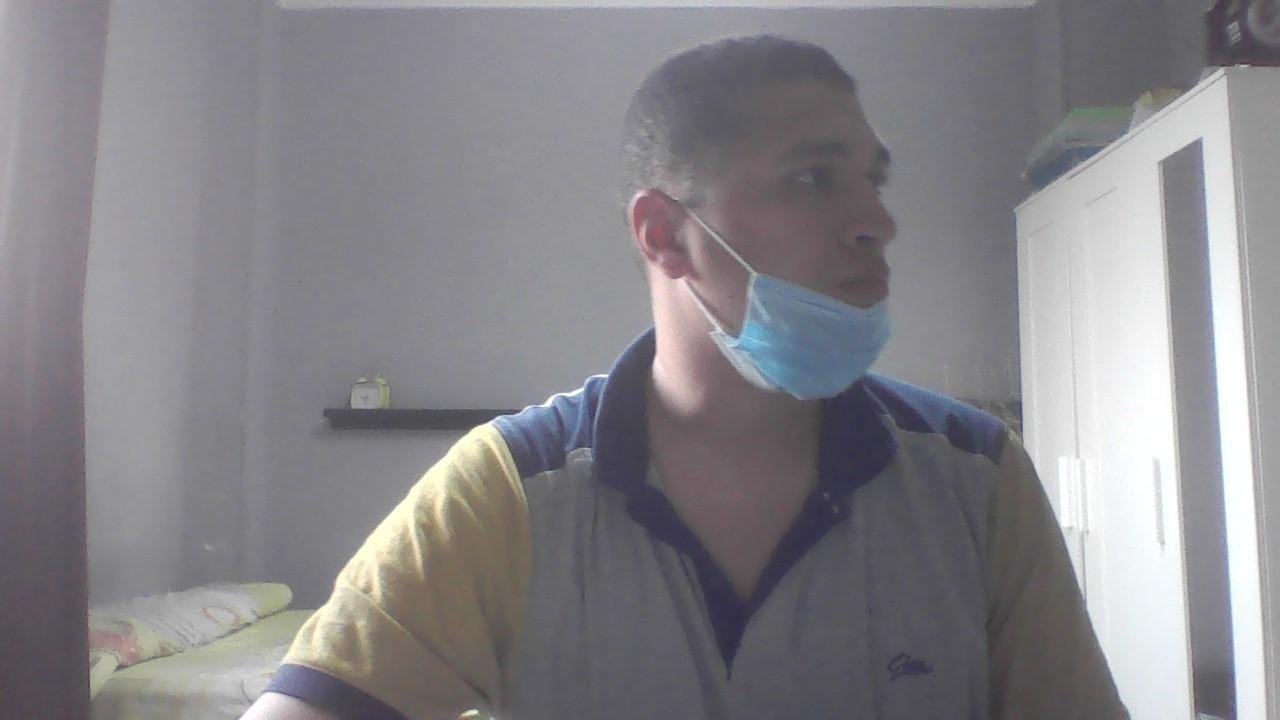mask_weared_incorrect: (679, 64, 905, 414)
